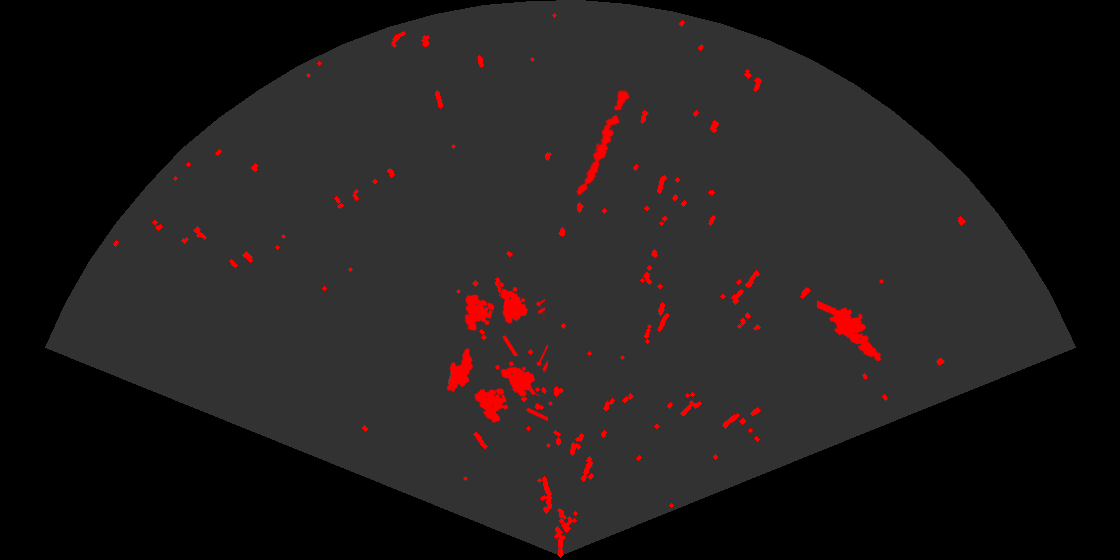AUV: (445, 346, 475, 394)
cage: (463, 280, 545, 356), (473, 343, 548, 424)
chain: (575, 88, 632, 197)
frogman: (817, 299, 883, 363)
